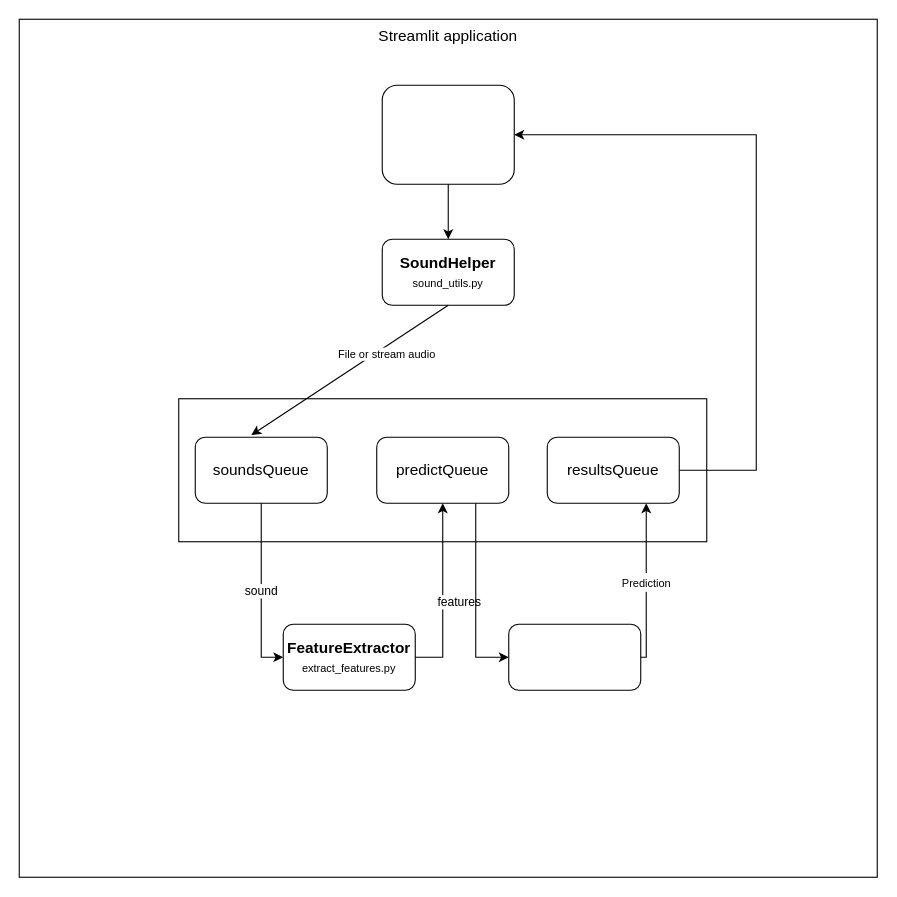
The diagram is 897 pixels wide and 897 high, and some of its shapes have lost their labels. Each missing label, with the box of its shape:
communications.py: (178, 398, 707, 542)
Predictor predictor.py: (508, 623, 641, 690)
webrtc streamlit_app.py: (381, 84, 514, 184)
